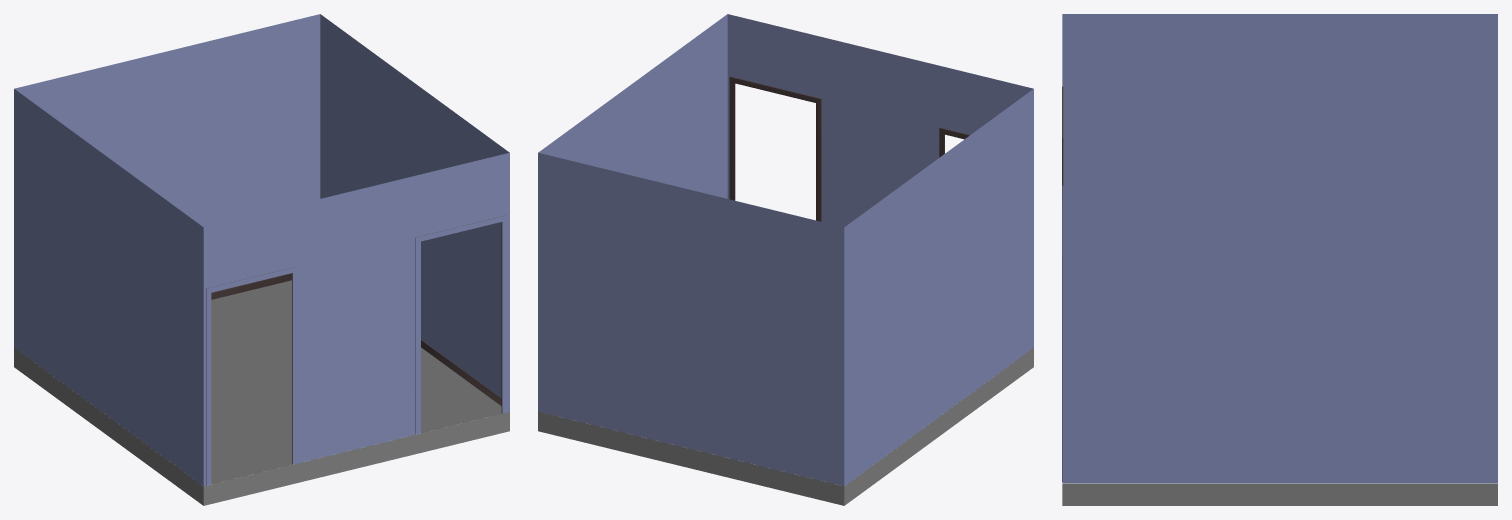
The model's file is Opratory_with_Molding.FBX.
3 renders of one model, left to right at view 1: azimuth 30°, elevation 25°; view 2: azimuth 150°, elevation 25°; view 3: azimuth 270°, elevation 25°, orthographic. The views are drawn at different scales.
Visible parts, largest first — view 1: Box005, Object001, Box006; view 2: Box005, Box006; view 3: Box005, Box006.
Part boxes in pixels (<box>): Box005: <box>14,14,509,505</box>; Object001: <box>211,280,501,484</box>; Box006: <box>206,215,504,485</box>; Box005: <box>538,14,1033,505</box>; Box006: <box>729,76,969,221</box>; Box005: <box>1062,14,1497,505</box>; Box006: <box>1062,86,1063,481</box>.
Size of the model in its own units: 132 by 115 by 142.
